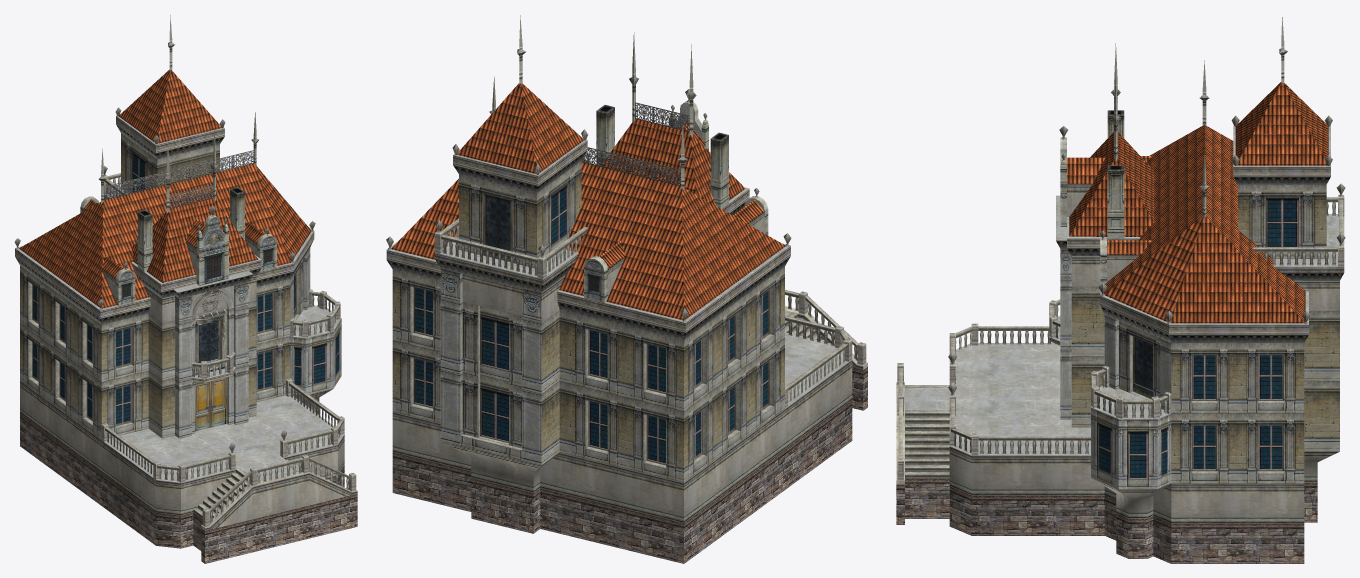
The model's file is rd_vil8.glb.
The picture shows the model from 3 angles, left to right: view 1: azimuth 30°, elevation 25°; view 2: azimuth 150°, elevation 25°; view 3: azimuth 270°, elevation 25°; orthographic projection. The views are drawn at different scales.
Visible parts, largest first — view 1: rd_vil8; view 2: rd_vil8; view 3: rd_vil8.
Boxes of the visible parts, bbox=[...] form: rd_vil8: bbox=[14, 15, 357, 563]; rd_vil8: bbox=[386, 15, 867, 563]; rd_vil8: bbox=[896, 17, 1345, 563].
Size of the model in its own units: 21.22 by 32.74 by 27.01.
Materials: 13 (13 with a texture image).
